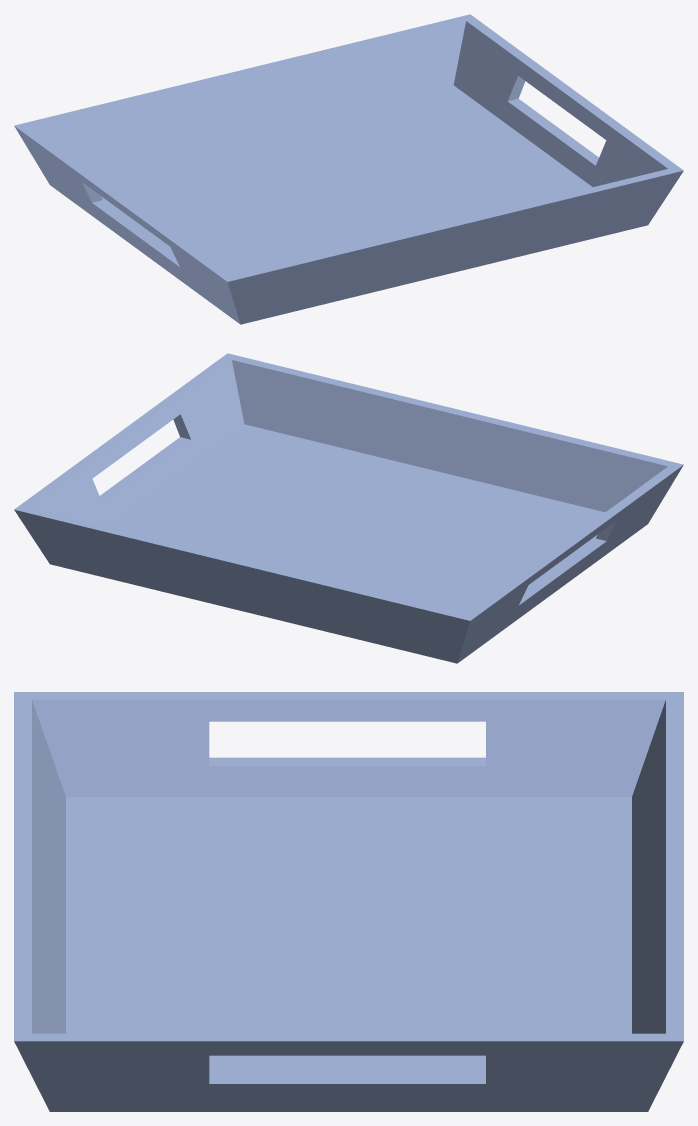
File: tray.fbx
The picture shows the model from 3 angles, top to bottom: view 1: azimuth 30°, elevation 25°; view 2: azimuth 150°, elevation 25°; view 3: azimuth 270°, elevation 25°; orthographic projection. The views are drawn at different scales.
Parts seen in each view (by area): view 1: Layer0_001; view 2: Layer0_001; view 3: Layer0_001.
Part boxes in pixels (<box>): Layer0_001: <box>14,14,683,324</box>; Layer0_001: <box>14,353,683,663</box>; Layer0_001: <box>14,692,683,1111</box>.
Size of the model in its own units: 41.44 by 4.95 by 33.6.
